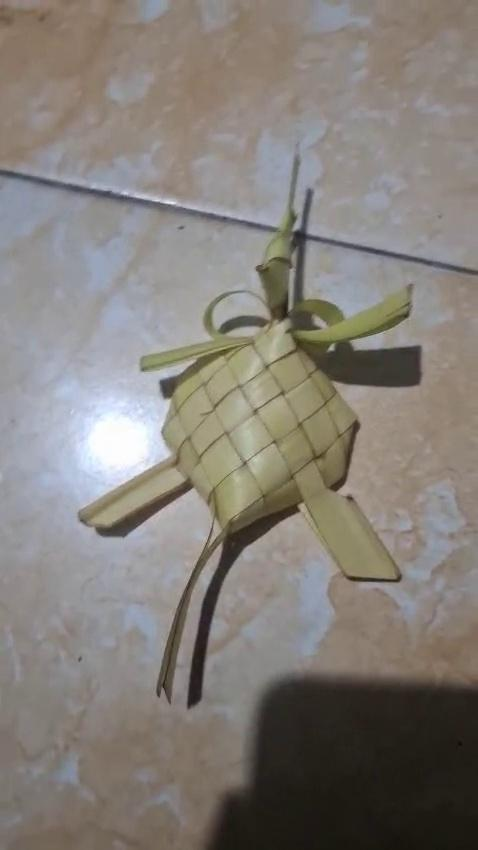Tipat Dampulan: (74, 136, 424, 729)
